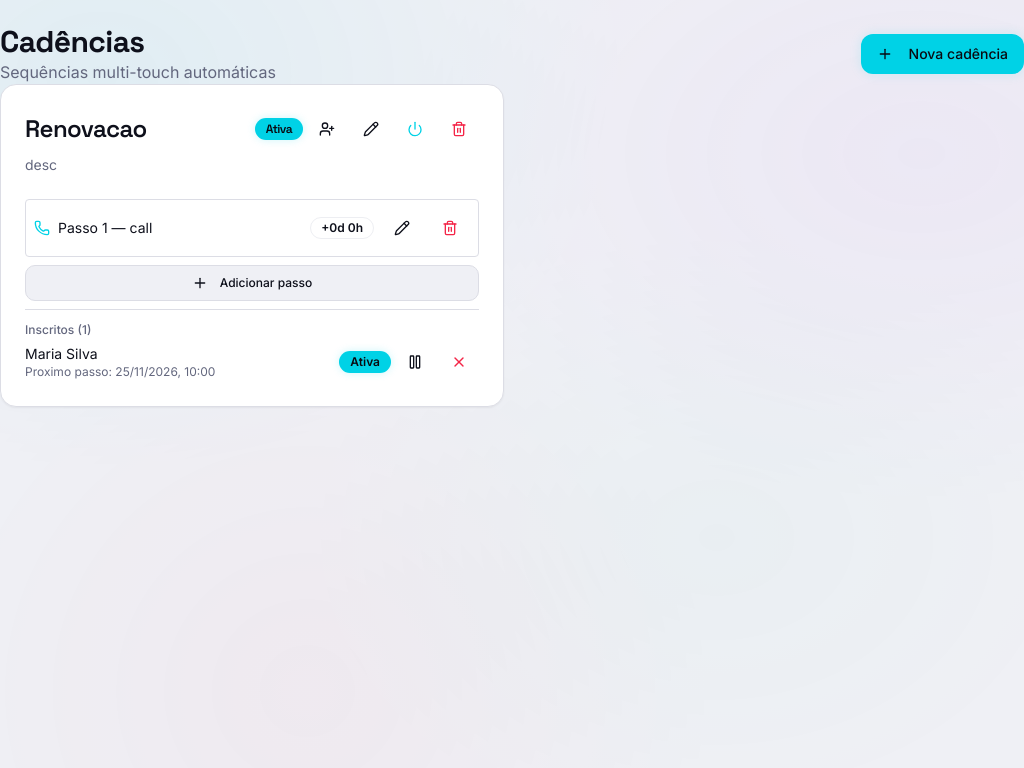
Scenario: Cadences: acoes de edicao e exclusao na tela › nao deixa inscrever de novo um contato que ja esta na cadencia
Click the button named "Inscrever contato". click: (327, 129)
box: [307,109,347,149]
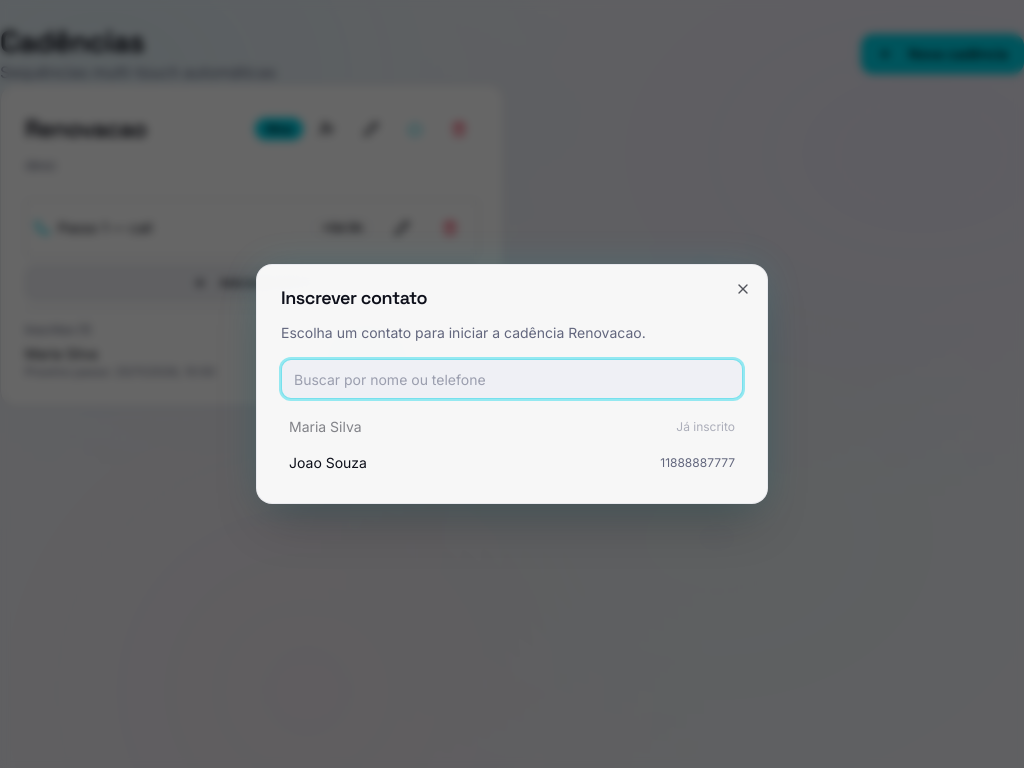
Expected: the button "Maria Silva Já inscrito" is disabled, [281,411,743,443]
Expected: the text "Já inscrito" is shown once, [676,419,735,435]
